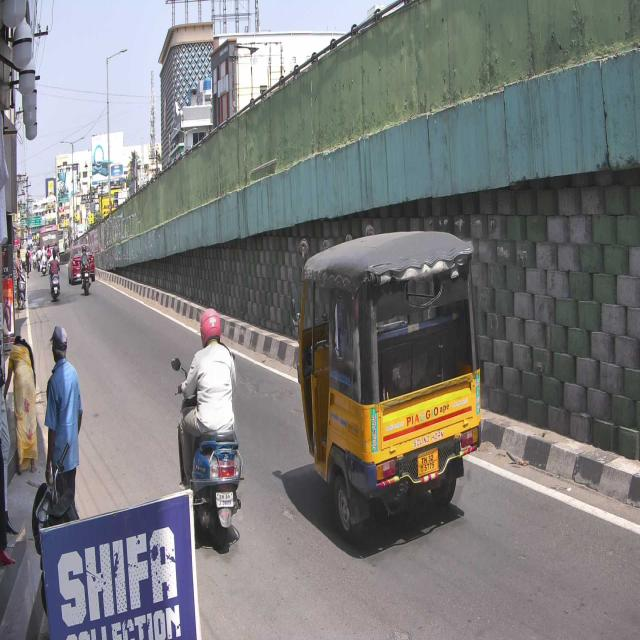single_rider: (170, 304, 245, 550)
